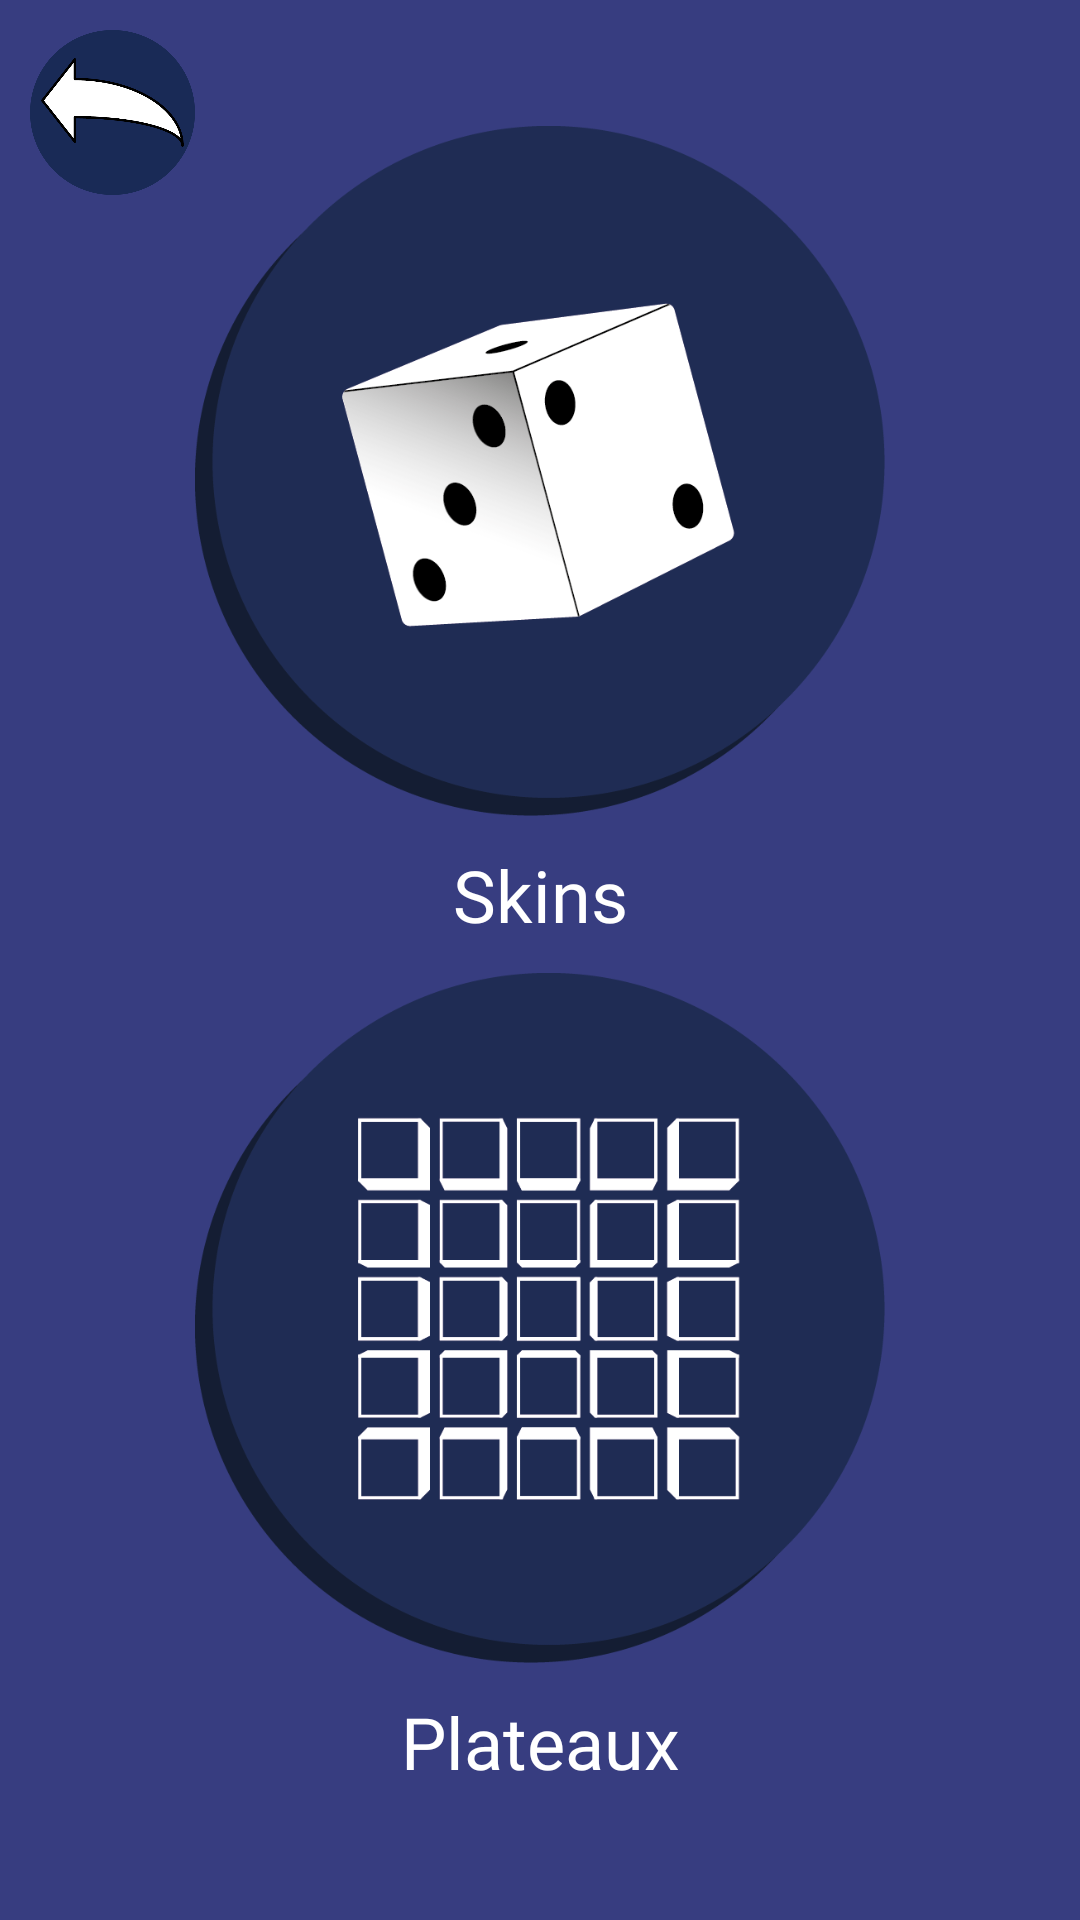

Icon bounding boxes for this 1080px x 1920px phone screenshot, format (x1, y1, x2, y2):
retour: (30, 30, 195, 195)
